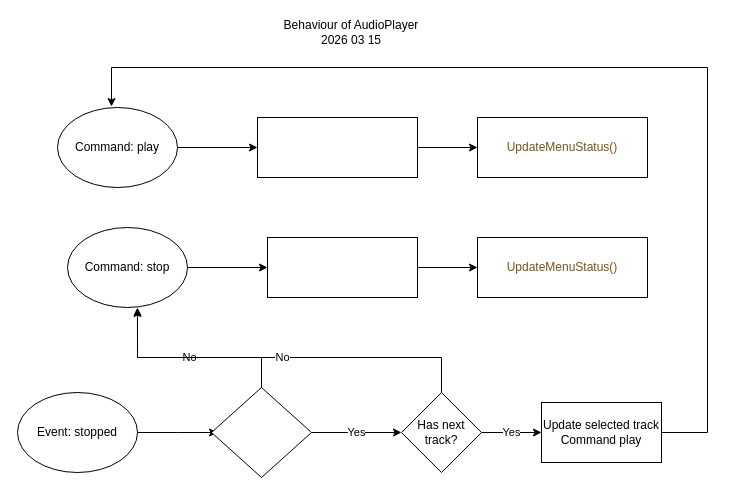
This 733x495 diagram has some shape labels left out. The centre of each missing label's shape, as x and y in pixels:
"_lastAction == Play ?" belongs at (261,432).
"_playerState = Playing _lastAction = Play" belongs at (337,147).
"_playerState = Stopped _lastAction = Stop" belongs at (342,267).
